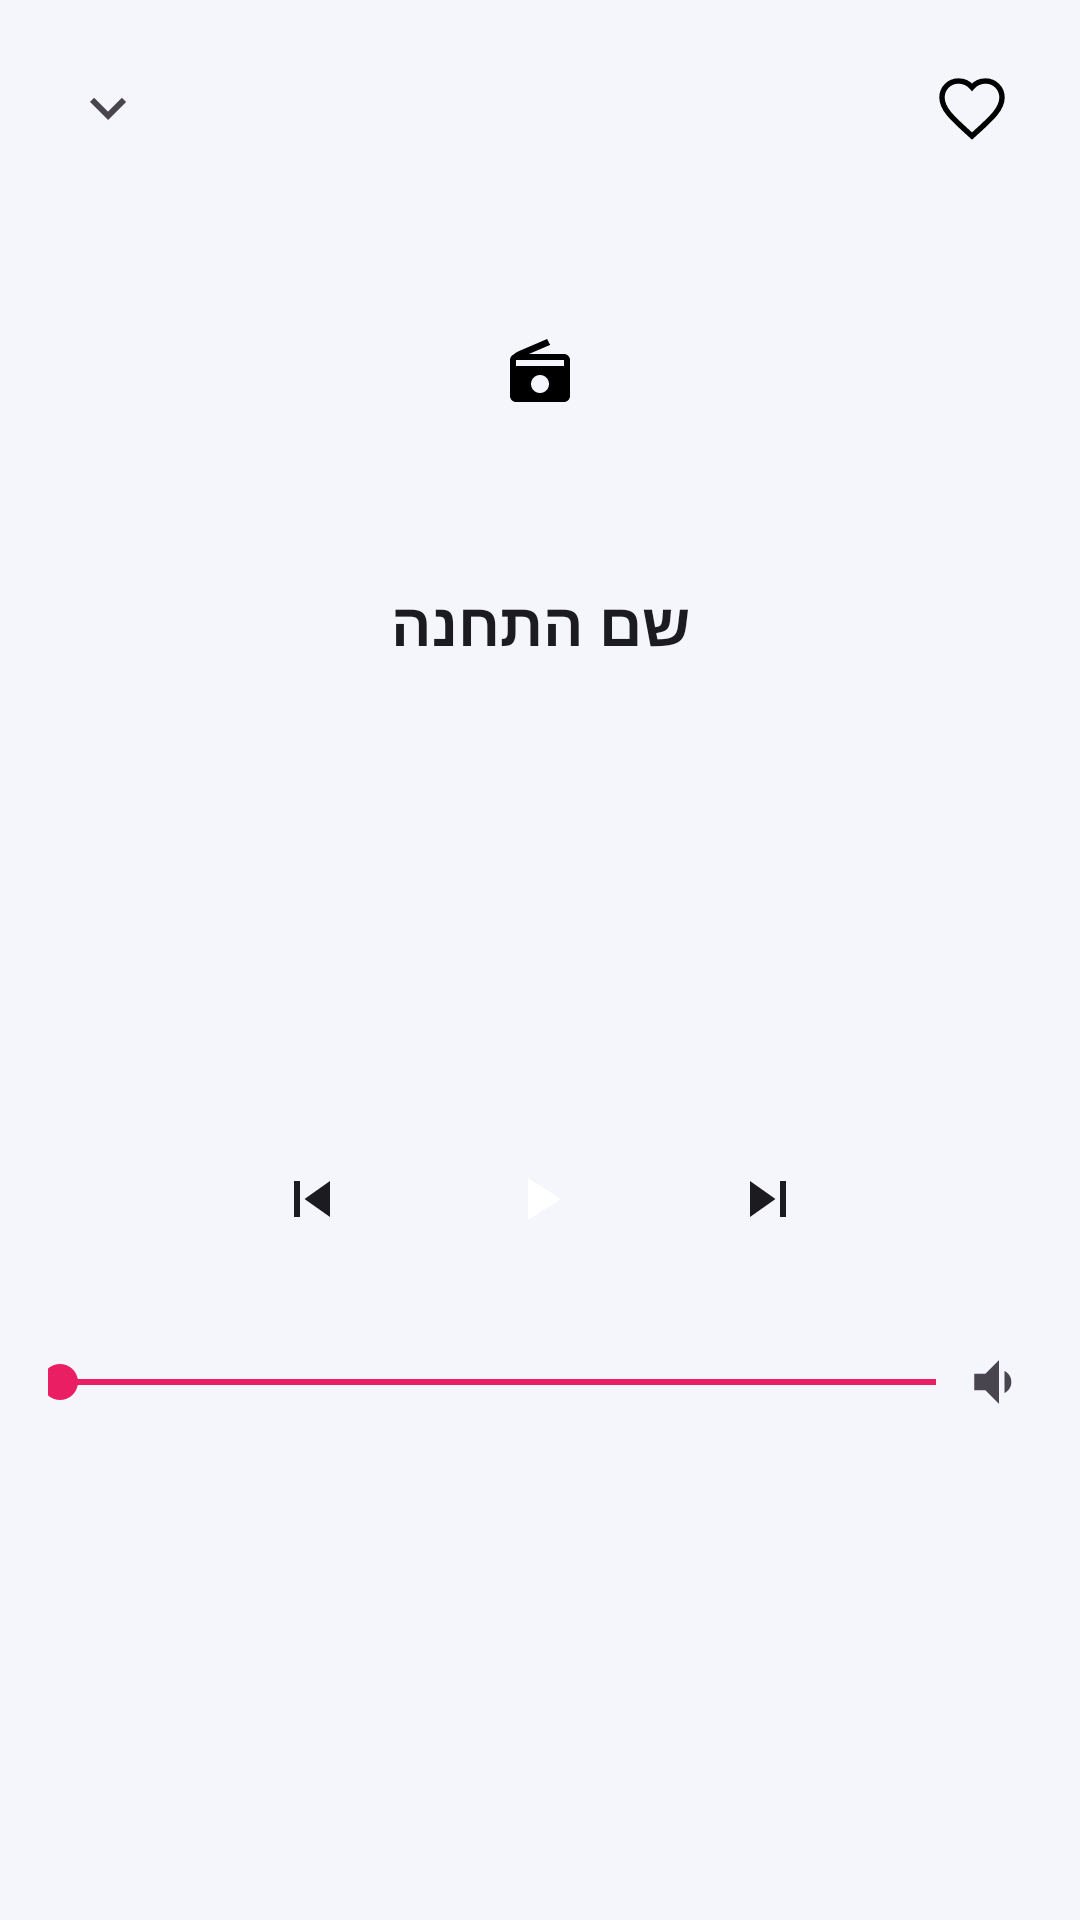

Icon click points for this 1080x1920 phone screenshot, format [x,y]:
radio: [540,370]
volume: [993,1382]
מועדפים: [972,109]
מזעור: [108,109]
תחנה הבאה: [768,1199]
תחנה קודמת: [312,1199]
